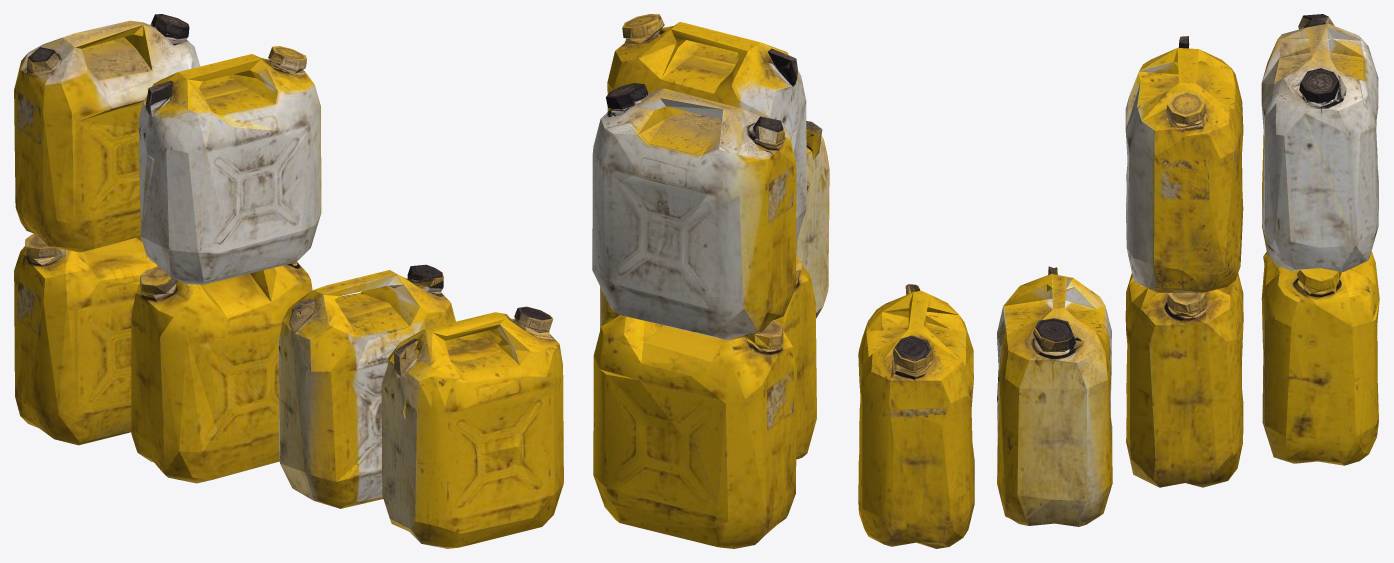
The model's file is jerrycans.glb.
The picture shows the model from 3 angles, left to right: view 1: azimuth 30°, elevation 25°; view 2: azimuth 150°, elevation 25°; view 3: azimuth 270°, elevation 25°; orthographic projection. The views are drawn at different scales.
Bounding box in the file's own units: 1.38 × 1.6 × 1.9.
1 material, 1 textured.
